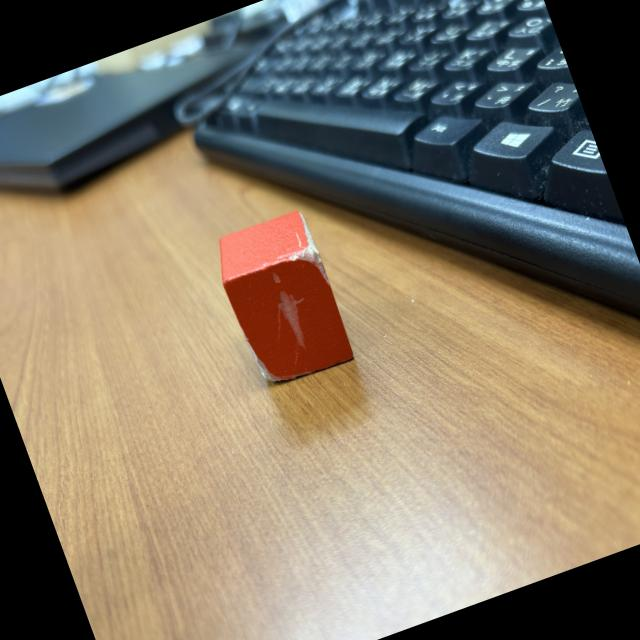broken: (208, 207, 358, 393)
